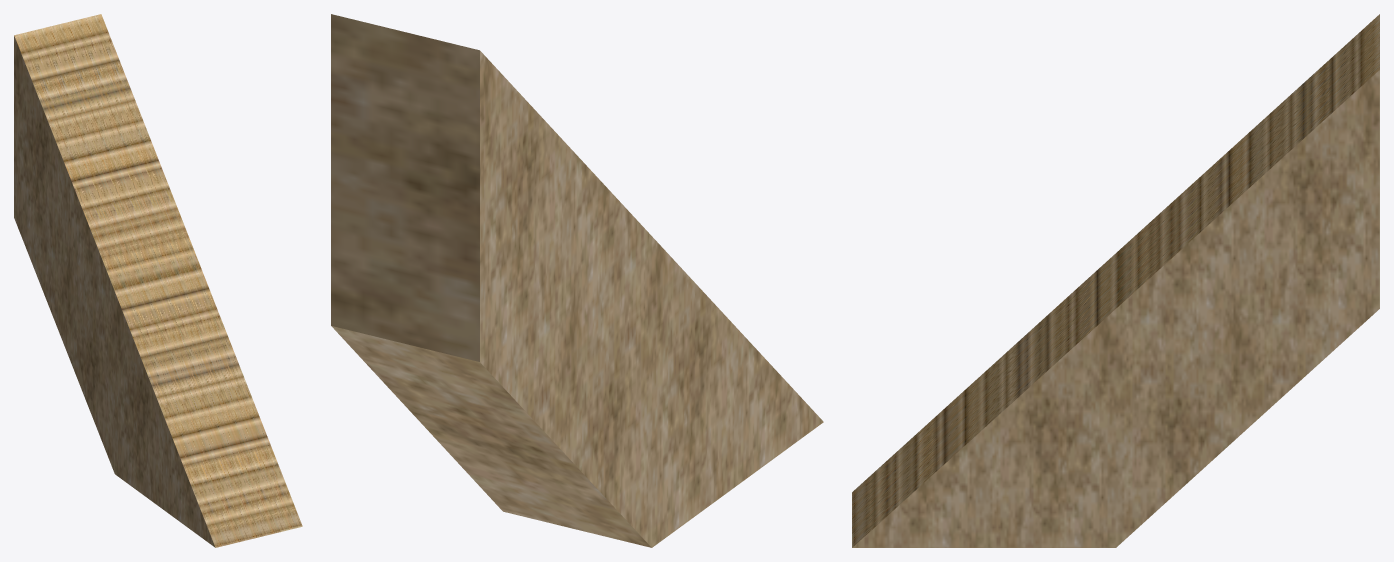
The model's file is thm_tato_imprv_stair_large_s02_l2.fbx.
3 renders of one model, left to right at view 1: azimuth 30°, elevation 25°; view 2: azimuth 150°, elevation 25°; view 3: azimuth 270°, elevation 25°, orthographic. The views are drawn at different scales.
Visible parts, largest first — view 1: mesh_node; view 2: mesh_node; view 3: mesh_node.
Boxes of the visible parts, x1,y1,x2,y2 form: mesh_node: [14, 14, 302, 547]; mesh_node: [331, 14, 823, 547]; mesh_node: [852, 14, 1379, 547].
Size of the model in its own units: 4 by 16 by 16.
